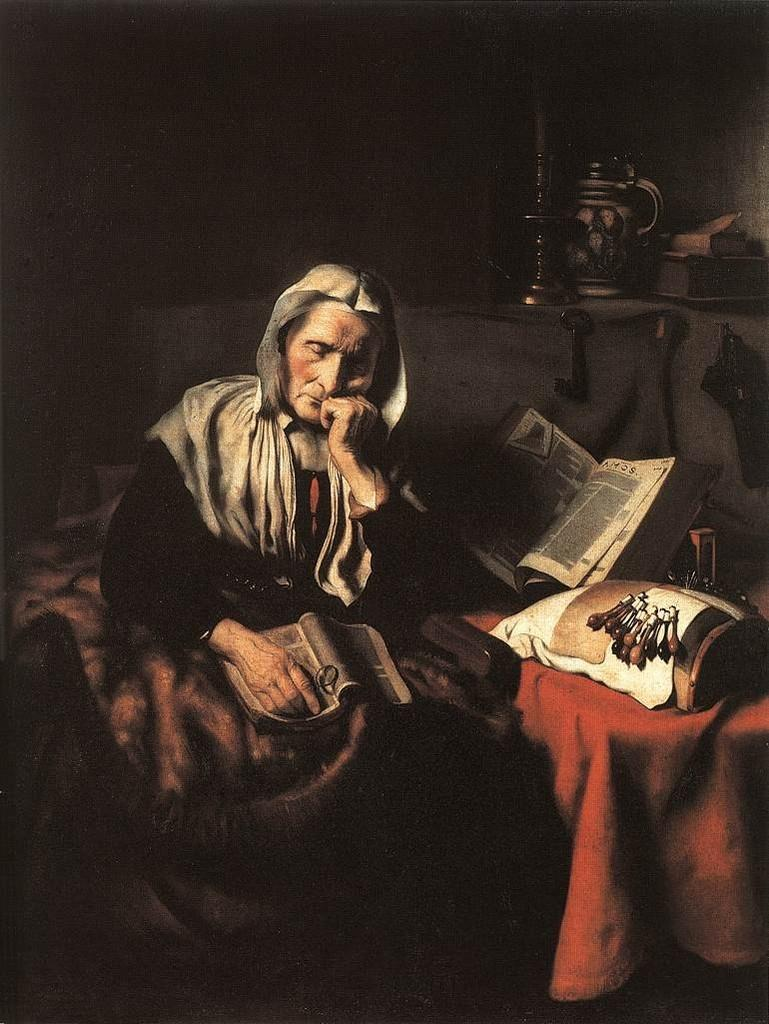Sem Máscara: (275, 289, 392, 433)
